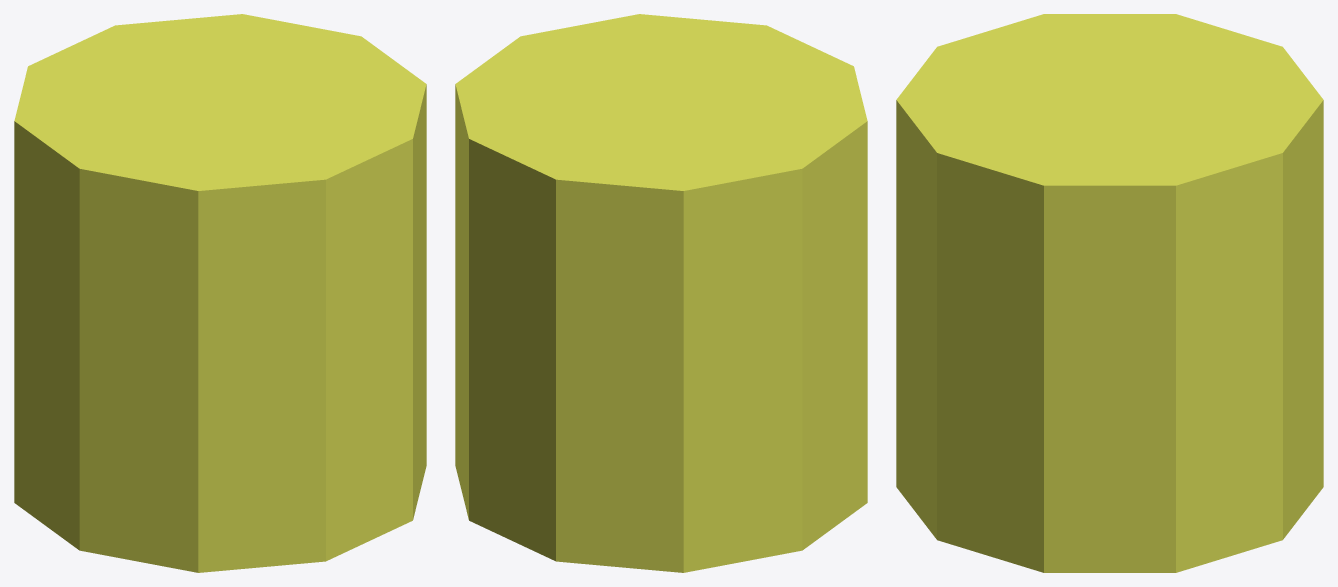
The model's file is haybale.glb.
3 renders of one model, left to right at view 1: azimuth 30°, elevation 25°; view 2: azimuth 150°, elevation 25°; view 3: azimuth 270°, elevation 25°, orthographic.
Visible parts, largest first — view 1: Cylinder; view 2: Cylinder; view 3: Cylinder.
Boxes of the visible parts, x1,y1,x2,y2 form: Cylinder: [14, 14, 426, 572]; Cylinder: [455, 14, 867, 572]; Cylinder: [896, 14, 1323, 572].
Size of the model in its own units: 1.9 by 2 by 2.
